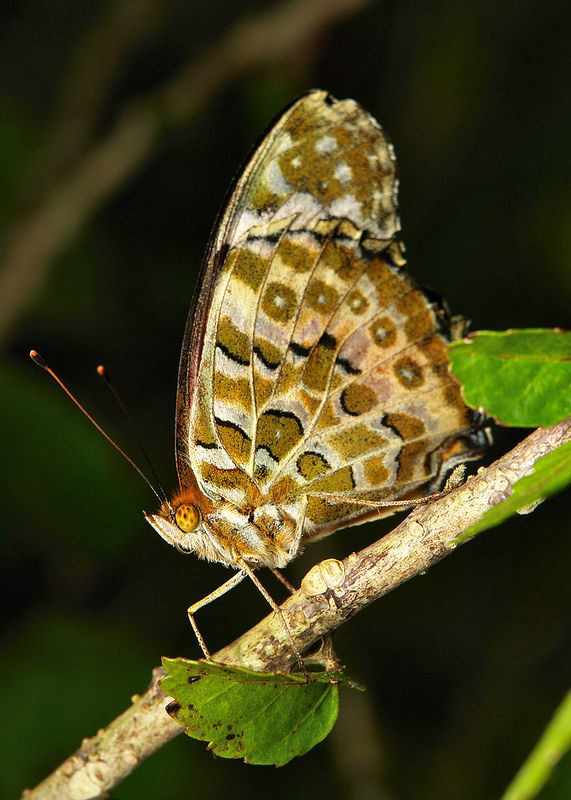Argyreus hyperbius: (29, 81, 508, 698)
butterf: (27, 79, 506, 696)
